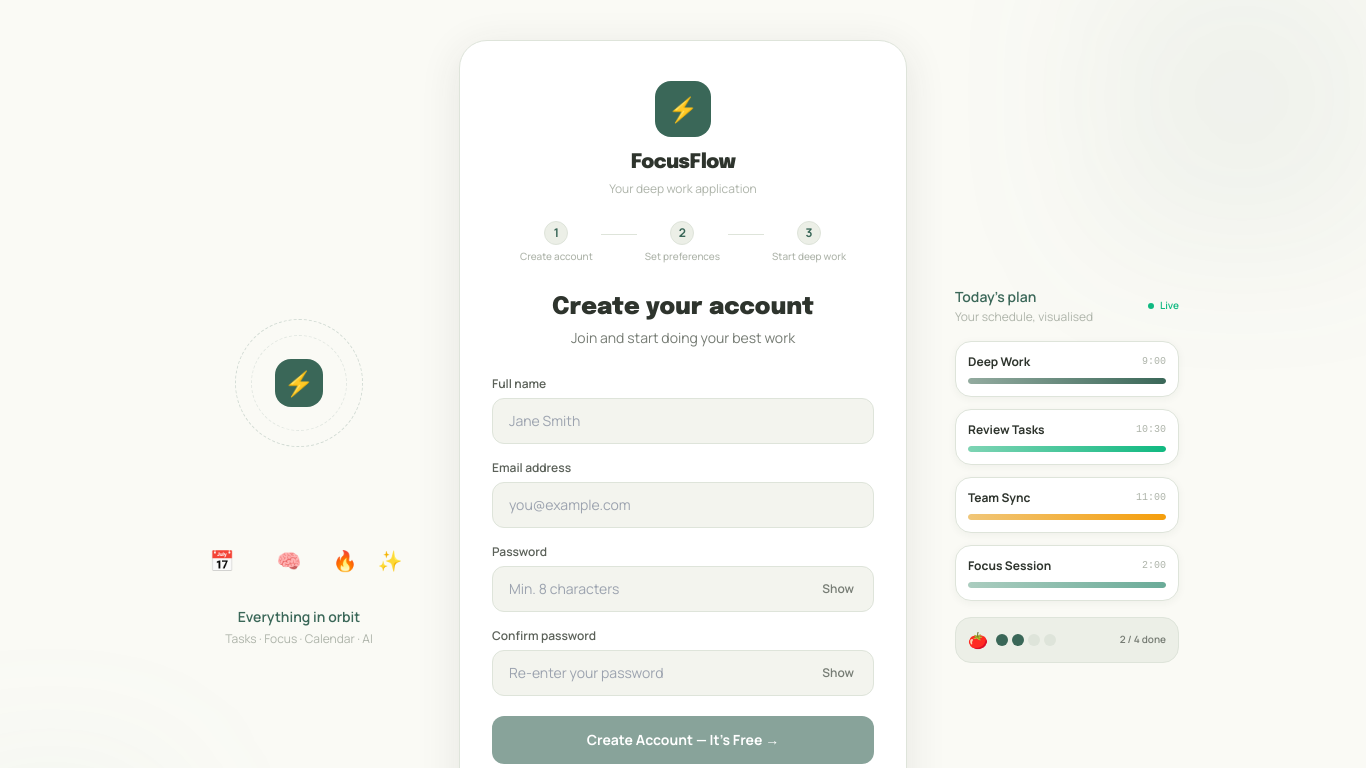
RegisterPage › AUTH-13: shows server error when email is already registered
This screenshot has width=1366, height=768.
Type "Alice" into the field labelled "Full name" at (683, 421), box 492,398 -> 874,444
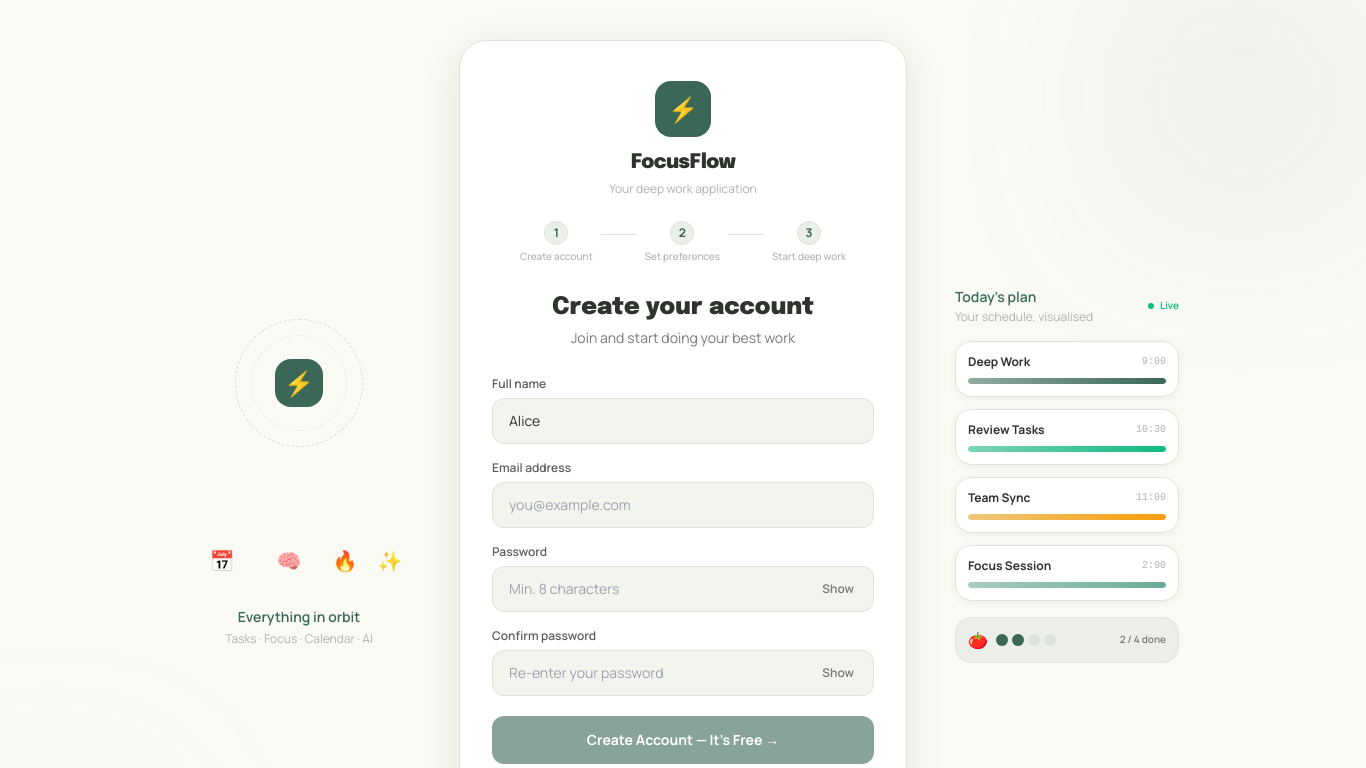
Type "alice@test.com" into the field labelled "Email address" at (683, 505), box 492,482 -> 874,528
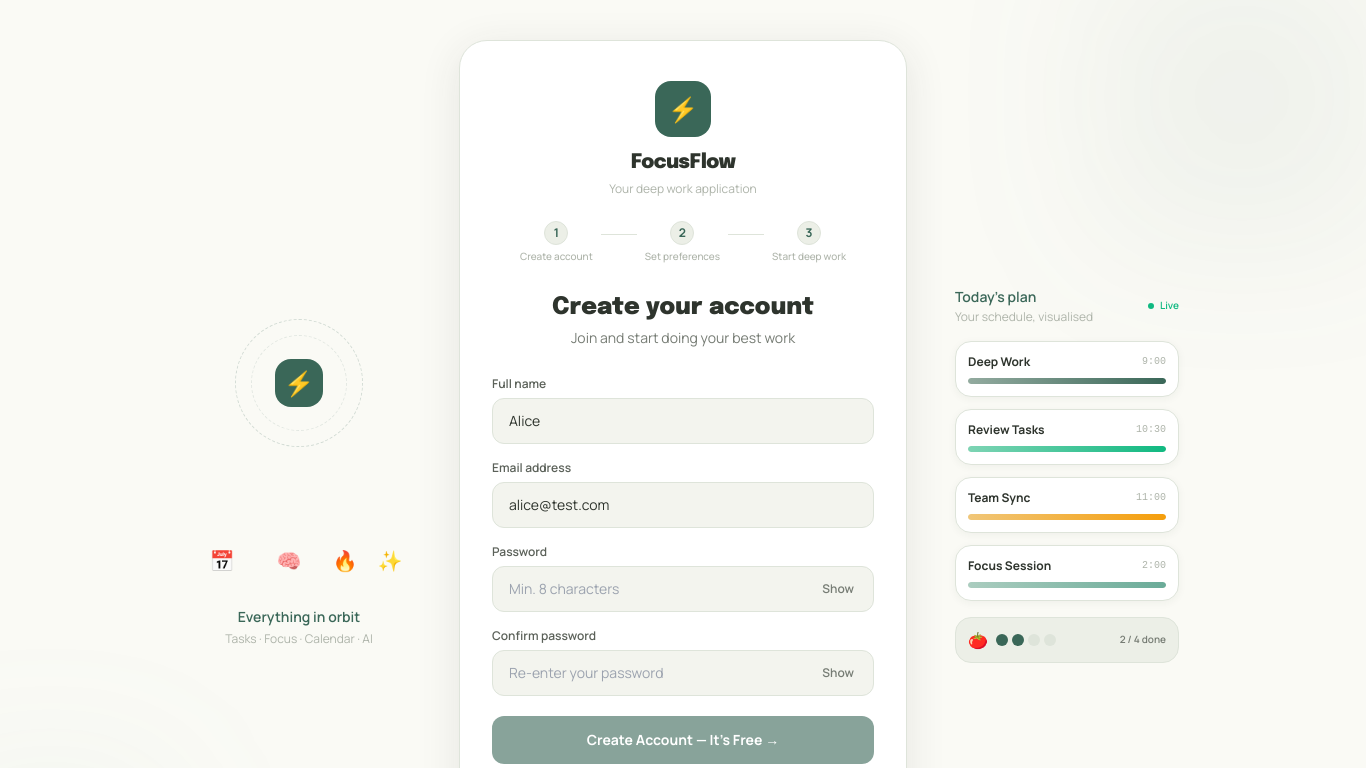
Type "StrongPass1!" into the password field labelled "Password" at (683, 589), box 492,566 -> 874,612
(page scrolled)
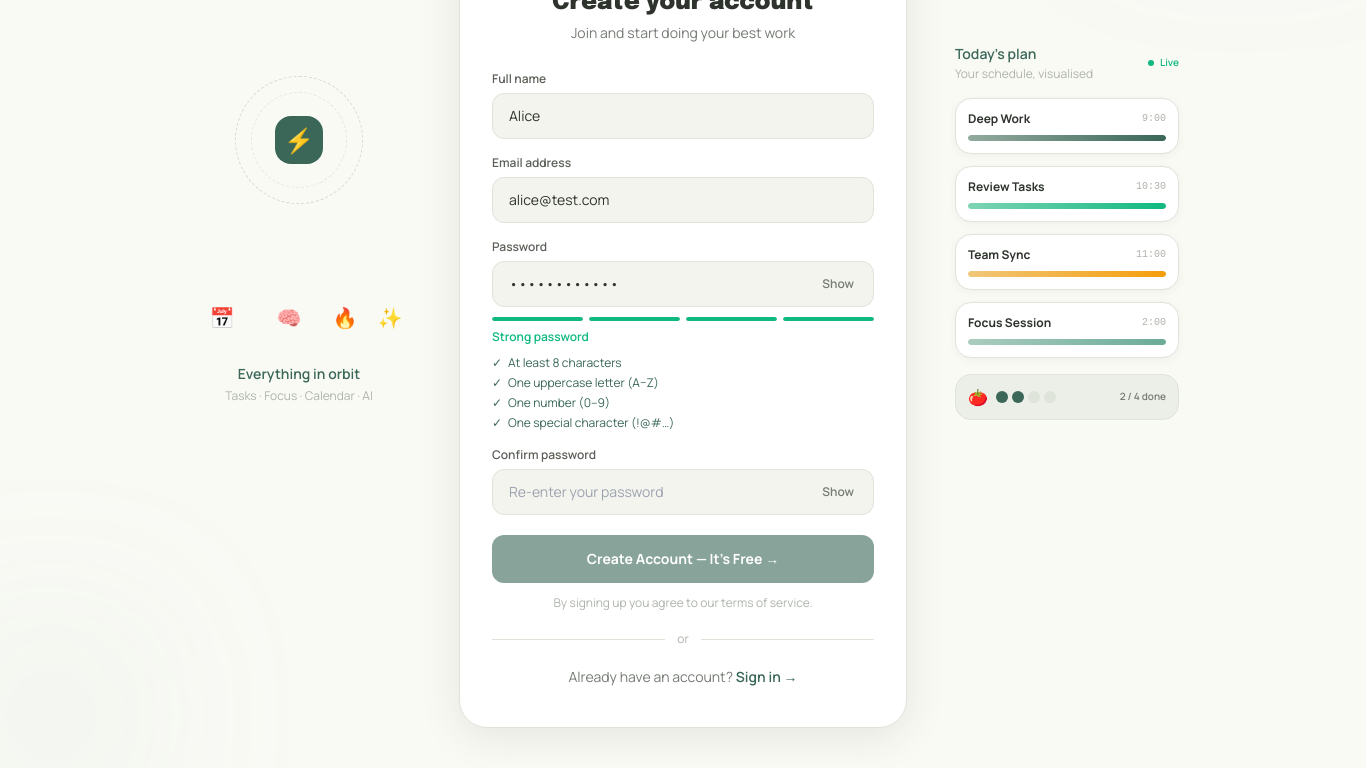
Type "StrongPass1!" into the password field labelled "Confirm password" at (683, 492), box 492,469 -> 874,515
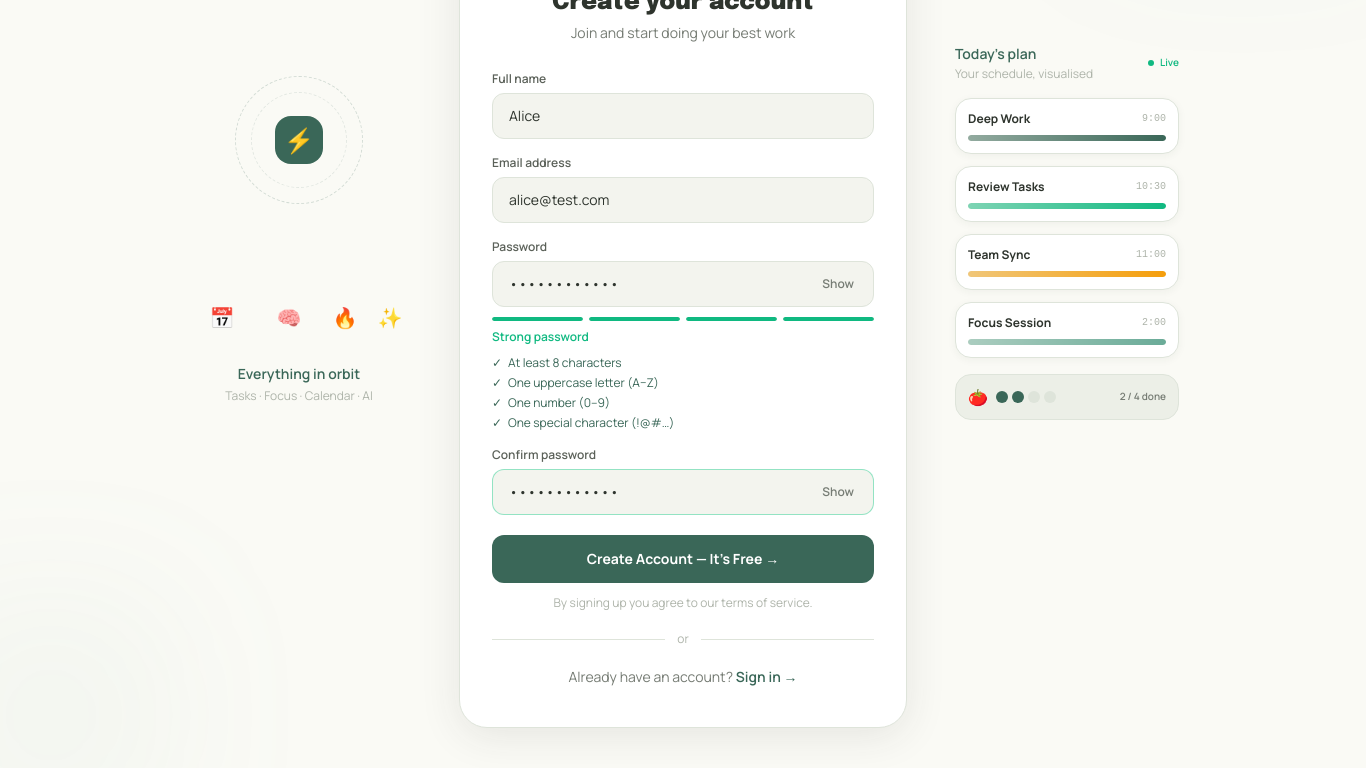
Click the button "Create Account — It's Free →" at (683, 559), box 492,535 -> 874,583
(page scrolled)
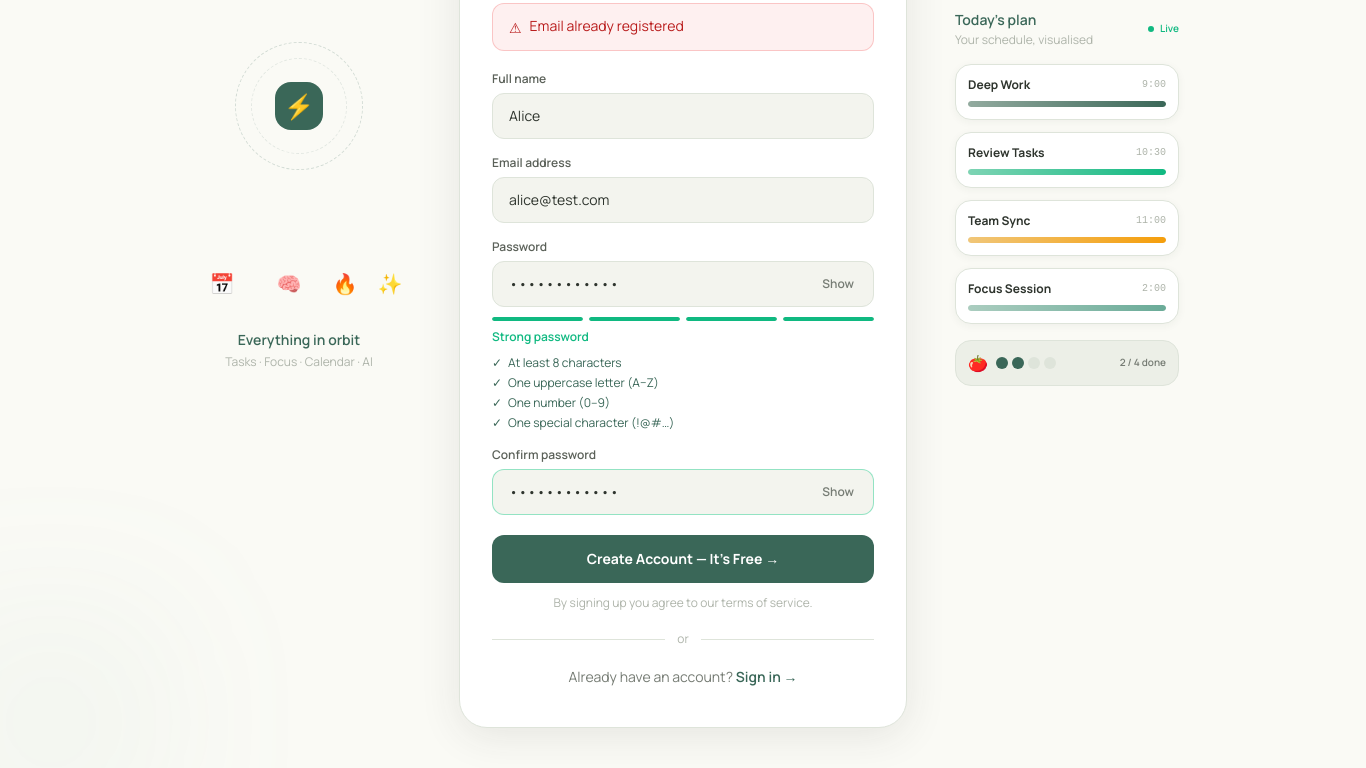
Expected: the text "Email already registered" is shown, 530,16 -> 684,36
